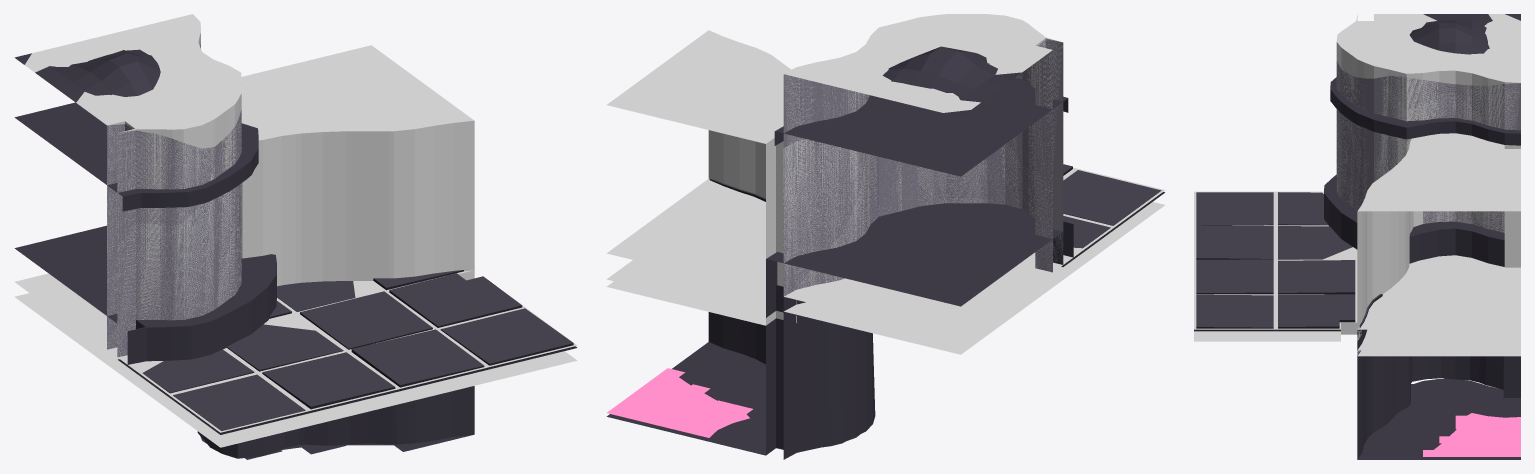
The model's file is Tile_WLFF.fbx.
3 views of the same model, side by side, from view 1: azimuth 30°, elevation 25°; view 2: azimuth 150°, elevation 25°; view 3: azimuth 270°, elevation 25° (orthographic). The views are drawn at different scales.
Parts seen in each view (by area): view 1: Tile_WLFF, Tile_WLFF_ColCrackBlocker, Tile_WLFF_ColWall, Tile_WLFF_ColGround; view 2: Tile_WLFF, Tile_WLFF_ColCrackBlocker, Tile_WLFF_ColWall, Tile_WLFF_ColGround, Tile_WLFF_ColCrackSurface; view 3: Tile_WLFF, Tile_WLFF_ColCrackBlocker, Tile_WLFF_ColWall, Tile_WLFF_ColCrackSurface, Tile_WLFF_ColGround.
Part boxes in pixels (x1=…): Tile_WLFF: x1=14, y1=43, x2=577, y2=459; Tile_WLFF_ColCrackBlocker: x1=241, y1=45, x2=474, y2=286; Tile_WLFF_ColWall: x1=16, y1=14, x2=241, y2=356; Tile_WLFF_ColGround: x1=14, y1=270, x2=577, y2=447; Tile_WLFF: x1=606, y1=39, x2=1164, y2=459; Tile_WLFF_ColCrackBlocker: x1=606, y1=30, x2=870, y2=295; Tile_WLFF_ColWall: x1=784, y1=14, x2=1062, y2=339; Tile_WLFF_ColGround: x1=784, y1=167, x2=1165, y2=354; Tile_WLFF_ColCrackSurface: x1=606, y1=260, x2=796, y2=325; Tile_WLFF: x1=1194, y1=14, x2=1520, y2=459; Tile_WLFF_ColCrackBlocker: x1=1357, y1=133, x2=1520, y2=329; Tile_WLFF_ColWall: x1=1336, y1=14, x2=1520, y2=231; Tile_WLFF_ColCrackSurface: x1=1357, y1=329, x2=1520, y2=356; Tile_WLFF_ColGround: x1=1194, y1=191, x2=1361, y2=341.
Bounding box in the file's own units: 5 × 5.43 × 5.
